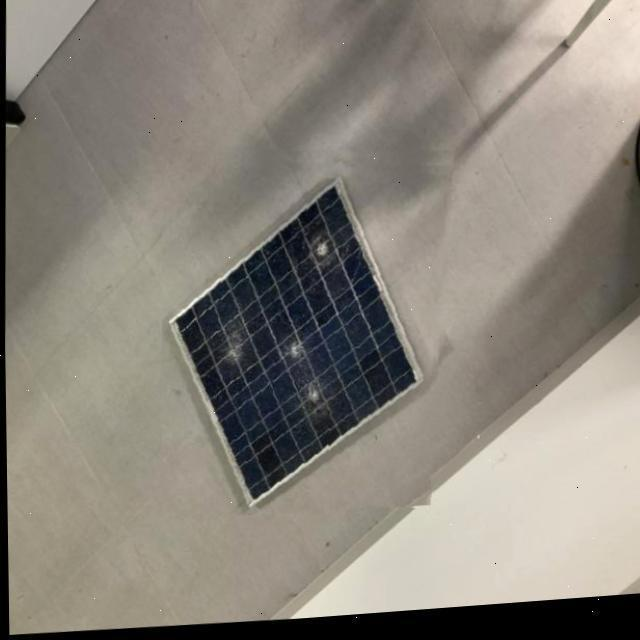Anomaly Solar Panel: (168, 180, 425, 514)
Structural Damage: (267, 329, 328, 440), (205, 321, 256, 403), (300, 225, 349, 286)
